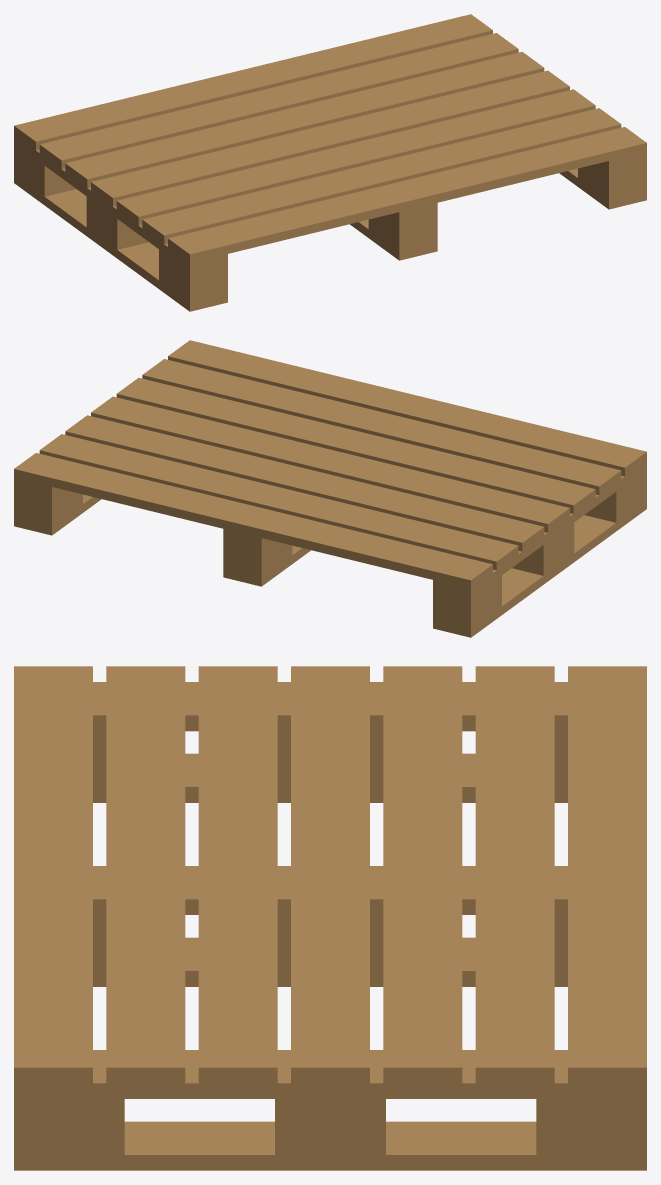
Rendered from plant.store.pallet_euro.glb.
3 views of the same model, one above another, from view 1: azimuth 30°, elevation 25°; view 2: azimuth 150°, elevation 25°; view 3: azimuth 270°, elevation 25° (orthographic). The views are drawn at different scales.
Parts seen in each view (by area): view 1: main__softwood; view 2: main__softwood; view 3: main__softwood.
Boxes of the visible parts, bbox=[...] form: main__softwood: bbox=[14, 14, 646, 311]; main__softwood: bbox=[14, 340, 646, 637]; main__softwood: bbox=[14, 666, 646, 1170].
Bounding box in the file's own units: 1.2 × 0.144 × 0.8.
